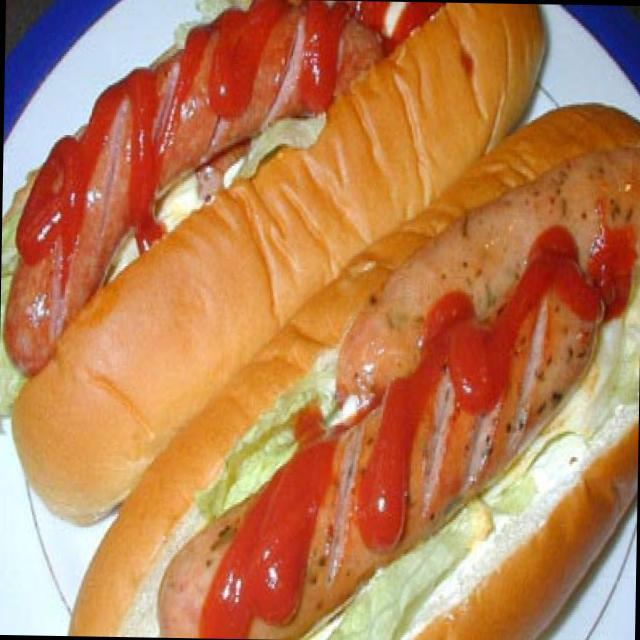Hot Dog: (132, 113, 640, 640)
